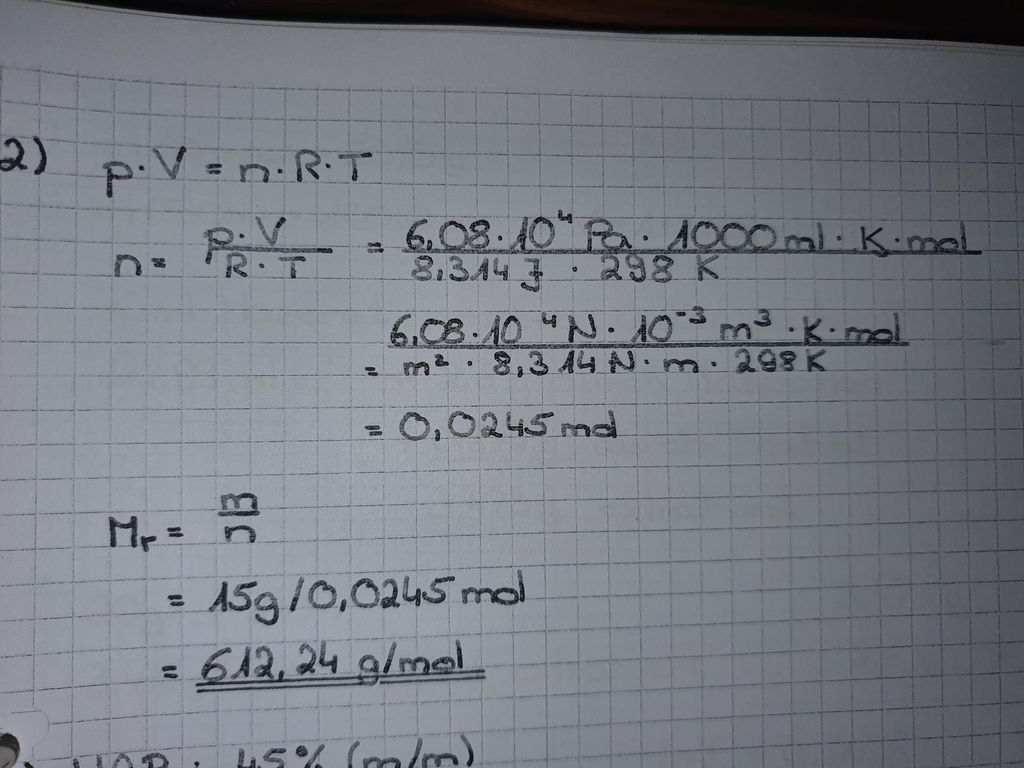equals: (358, 228, 391, 262), (161, 584, 197, 612), (142, 248, 176, 273), (200, 152, 231, 179), (358, 418, 390, 442), (160, 658, 187, 685), (161, 518, 189, 544), (359, 359, 384, 379)
equation: (101, 207, 998, 296), (345, 294, 945, 385), (151, 551, 549, 635), (150, 628, 492, 707), (88, 126, 381, 196), (347, 385, 634, 451), (75, 473, 269, 551)
fraction: (397, 214, 985, 286), (386, 306, 926, 381), (197, 563, 540, 615), (192, 639, 475, 696), (209, 485, 266, 547)
term: (397, 392, 623, 443), (199, 217, 341, 283), (234, 136, 381, 189), (99, 136, 196, 199), (100, 505, 160, 555), (100, 233, 154, 284)
